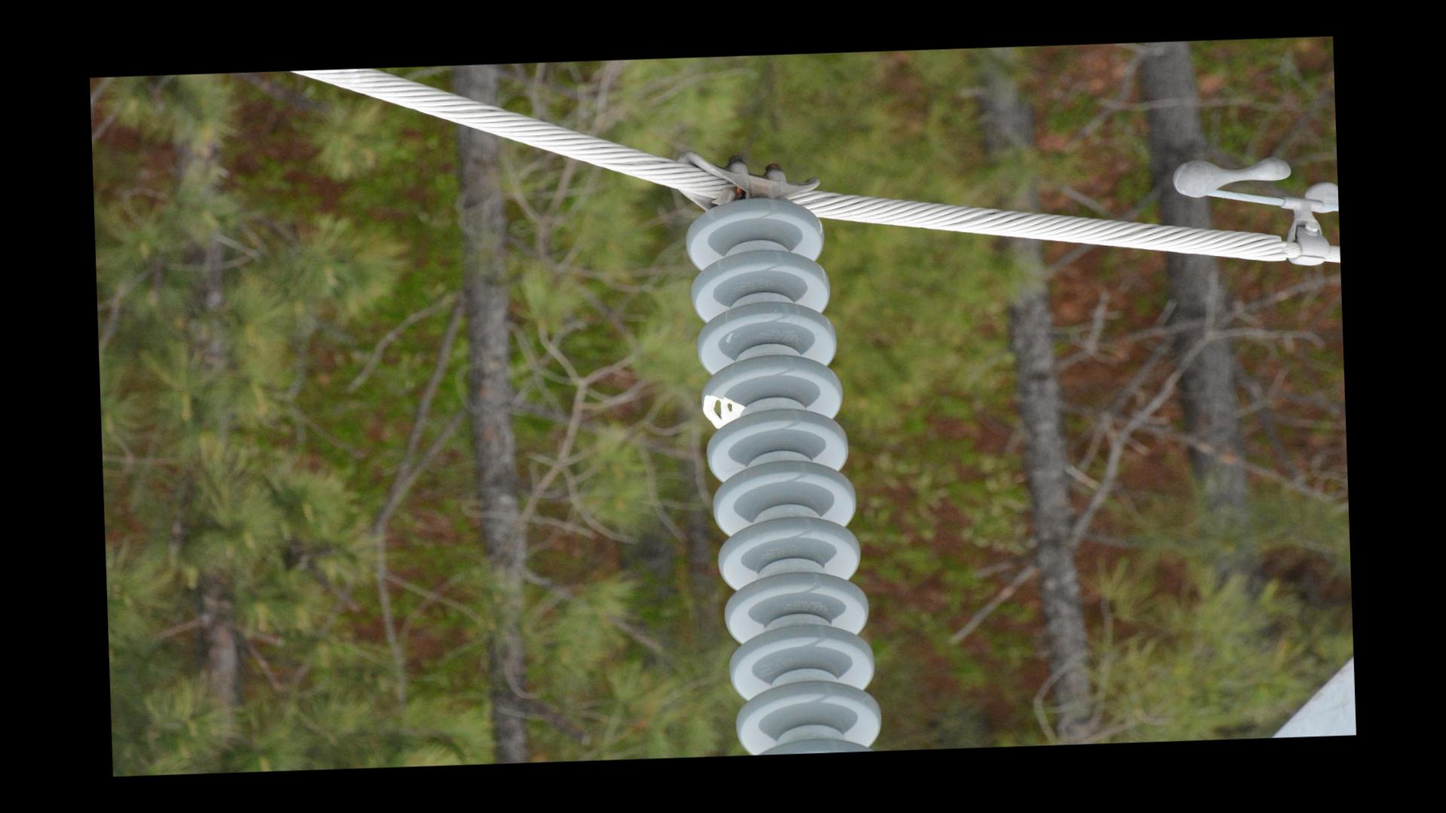damper: (1166, 148, 1341, 276)
